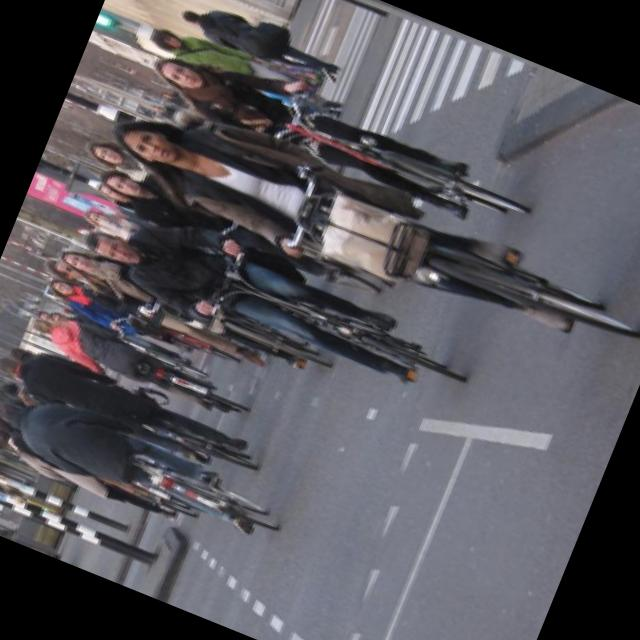bareface: (101, 108, 191, 180), (76, 220, 154, 276), (141, 46, 215, 98)
